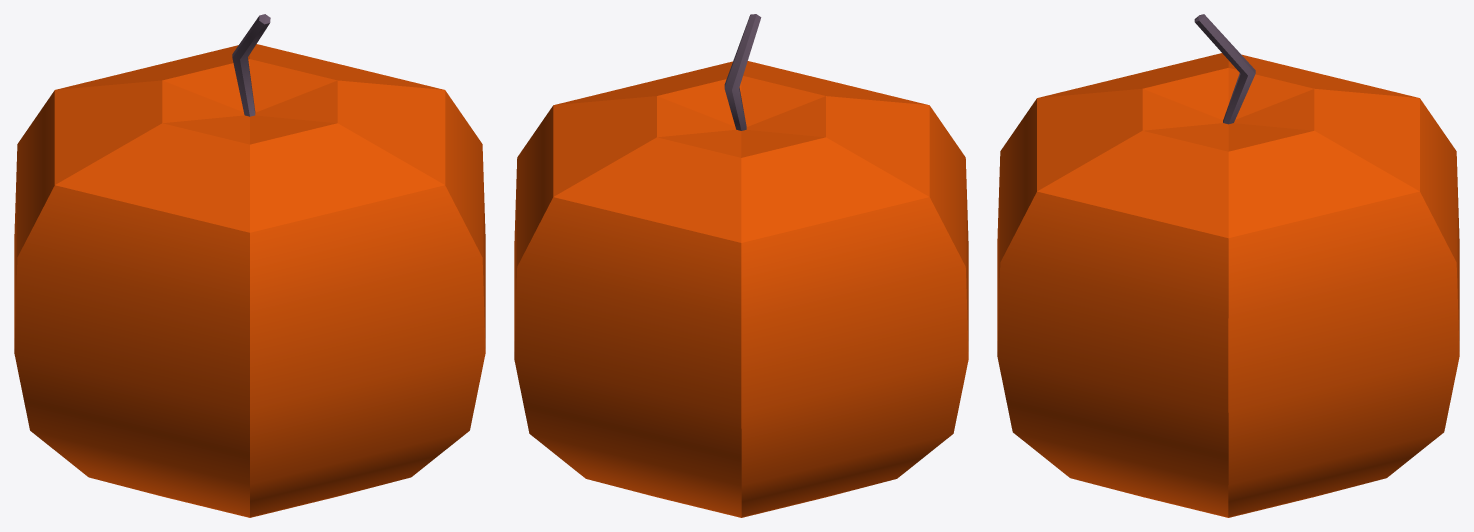
Rendered from _pple.fbx.
3 views of the same model, side by side, from view 1: azimuth 30°, elevation 25°; view 2: azimuth 150°, elevation 25°; view 3: azimuth 270°, elevation 25° (orthographic). The views are drawn at different scales.
Visible parts, largest first — view 1: pSphere1; view 2: pSphere1; view 3: pSphere1.
Part boxes in pixels (bbox=[...]): pSphere1: bbox=[14, 14, 485, 517]; pSphere1: bbox=[514, 14, 968, 517]; pSphere1: bbox=[997, 14, 1459, 517].
Size of the model in its own units: 2.06 by 1.96 by 1.78.
